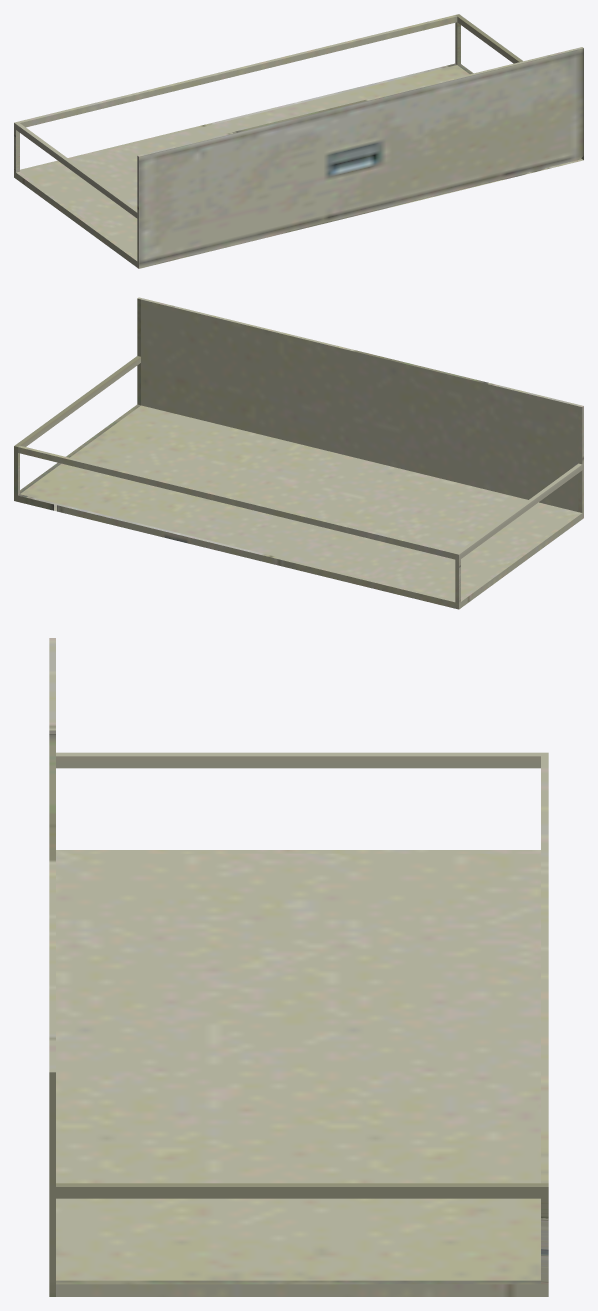
Rendered from file_cabinet_large_shelf_fancy.obj.
3 renders of one model, top to bottom at view 1: azimuth 30°, elevation 25°; view 2: azimuth 150°, elevation 25°; view 3: azimuth 270°, elevation 25°, orthographic. The views are drawn at different scales.
Visible parts, largest first — view 1: file_cabinet_large_shelf_fancy; view 2: file_cabinet_large_shelf_fancy; view 3: file_cabinet_large_shelf_fancy.
Boxes of the visible parts, x1,y1,x2,y2 form: file_cabinet_large_shelf_fancy: [14, 14, 583, 268]; file_cabinet_large_shelf_fancy: [14, 297, 583, 609]; file_cabinet_large_shelf_fancy: [49, 638, 548, 1296].
Size of the model in its own units: 1.43 by 0.3443 by 0.6947.
